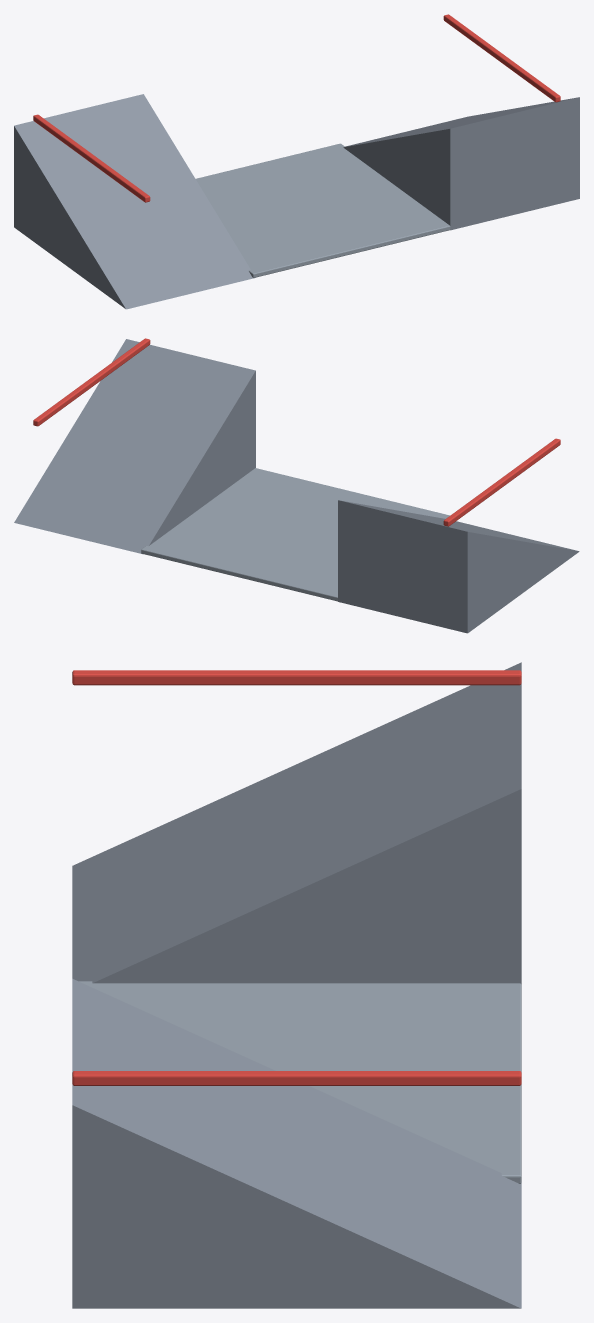
The model's file is Skate_HalfPipe.fbx.
3 renders of one model, top to bottom at view 1: azimuth 30°, elevation 25°; view 2: azimuth 150°, elevation 25°; view 3: azimuth 270°, elevation 25°, orthographic. The views are drawn at different scales.
Visible parts, largest first — view 1: HalfPipe; view 2: HalfPipe; view 3: HalfPipe.
Part boxes in pixels (box(x1,y1,x2,y2)): HalfPipe: box(14, 14, 579, 309); HalfPipe: box(14, 338, 579, 633); HalfPipe: box(72, 662, 521, 1308).
Size of the model in its own units: 8.4 by 1.9 by 3.6.
